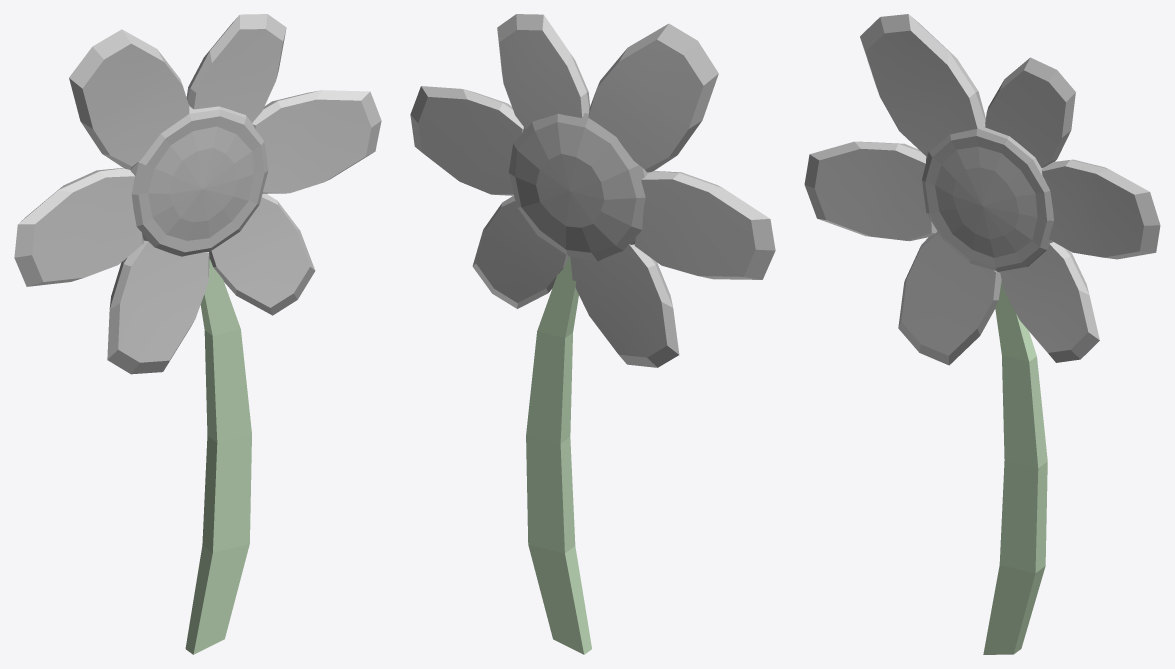
Rendered from Cartoon Flower.fbx.
3 renders of one model, left to right at view 1: azimuth 30°, elevation 25°; view 2: azimuth 150°, elevation 25°; view 3: azimuth 330°, elevation 25°, orthographic. The views are drawn at different scales.
Visible parts, largest first — view 1: Object003, Box001, Object009, Object004, Object008, Object006, Object007, Object005; view 2: Box001, Object003, Object004, Object009, Object008, Object006, Object005, Object007; view 3: Object003, Box001, Object004, Object009, Object006, Object008, Object007, Object005.
Boxes of the visible parts, left/top/right/bottom form: Object003: left=130, top=105, right=268, bottom=256; Box001: left=185, top=258, right=251, bottom=654; Object009: left=14, top=168, right=143, bottom=286; Object004: left=69, top=29, right=189, bottom=169; Object008: left=107, top=240, right=209, bottom=374; Object006: left=252, top=90, right=381, bottom=193; Object007: left=209, top=194, right=315, bottom=315; Object005: left=186, top=14, right=286, bottom=122; Box001: left=526, top=256, right=591, bottom=654; Object003: left=508, top=107, right=649, bottom=261; Object004: left=588, top=23, right=718, bottom=172; Object009: left=634, top=171, right=775, bottom=279; Object008: left=570, top=244, right=679, bottom=367; Object006: left=410, top=86, right=523, bottom=195; Object005: left=497, top=14, right=589, bottom=129; Object007: left=472, top=196, right=568, bottom=308; Object003: left=922, top=119, right=1053, bottom=272; Box001: left=983, top=281, right=1047, bottom=654; Object004: left=860, top=14, right=985, bottom=156; Object009: left=804, top=141, right=937, bottom=241; Object006: left=1042, top=159, right=1160, bottom=259; Object008: left=898, top=231, right=1001, bottom=365; Object007: left=1000, top=242, right=1099, bottom=362; Object005: left=985, top=57, right=1075, bottom=167.
Bounding box in the file's own units: 8.86 × 14.88 × 0.9464.
